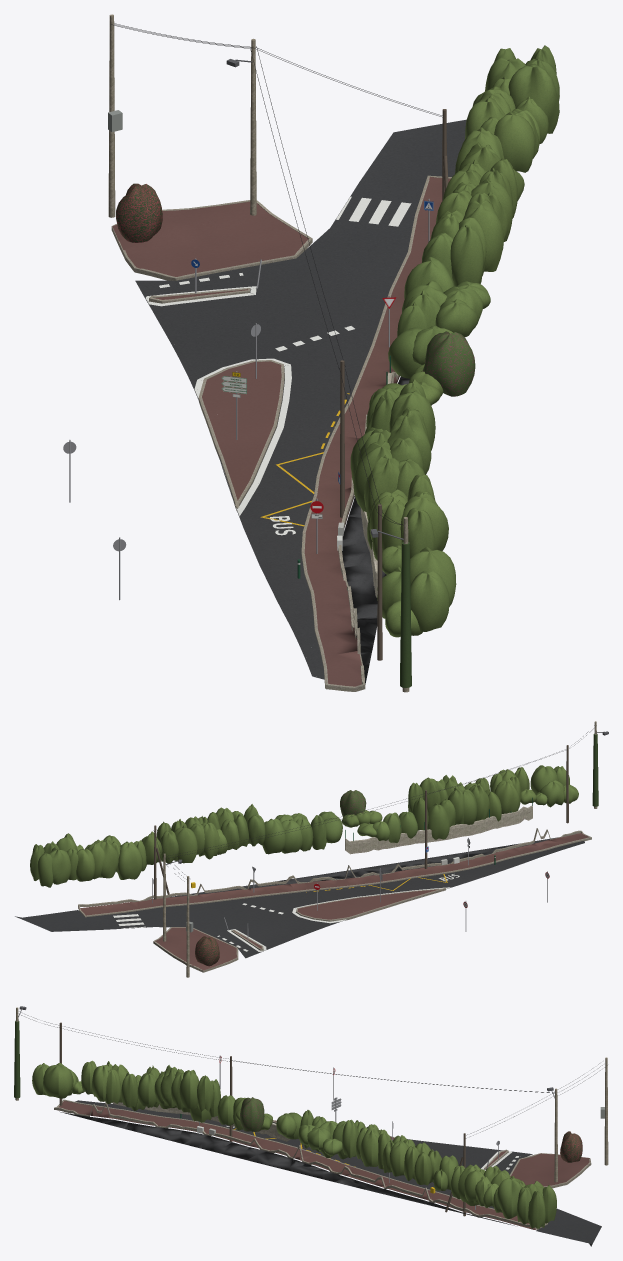
File: depart.glb
3 views of the same model, one above another, from view 1: azimuth 30°, elevation 25°; view 2: azimuth 150°, elevation 25°; view 3: azimuth 270°, elevation 25° (orthographic). The views are drawn at different scales.
Visible parts, largest first — view 1: voie_laterale_enrobe, haie_jardins, trottoir_enrobe_rouge, parvis_abri_enrobe_rouge, ilot_long_enrobe_rouge, trottoir_bordure, bougainvillier_jardin, laurier_rose_abri, beton_lampe_lierre_lierre, ilot_long_liseré, parvis_abri_bordure, ilot_long_bordure (+2 smaller); view 2: haie_jardins, voie_laterale_enrobe, trottoir_enrobe_rouge, trottoir_bordure, muret_blanc_jardin_muret, ilot_long_enrobe_rouge, parvis_abri_enrobe_rouge, ilot_long_bordure, laurier_rose_abri, bougainvillier_jardin, parvis_abri_bordure, beton_lampe_lierre_lierre (+1 smaller); view 3: haie_jardins, voie_laterale_enrobe, trottoir_enrobe_rouge, trottoir_bordure, parvis_abri_enrobe_rouge, bougainvillier_jardin, laurier_rose_abri, muret_blanc_jardin_muret, beton_lampe_lierre_lierre, beton_transfo_fut, beton_lampe_abri_fut.
Boxes of the visible parts, x1,y1,x2,y2 form: voie_laterale_enrobe: (135,119,466,684); haie_jardins: (350,45,559,637); trottoir_enrobe_rouge: (304,177,450,686); parvis_abri_enrobe_rouge: (112,201,308,276); ilot_long_enrobe_rouge: (202,361,281,500); trottoir_bordure: (301,175,451,691); bougainvillier_jardin: (423,331,475,396); laurier_rose_abri: (116,183,162,242); beton_lampe_lierre_lierre: (400,542,411,687); ilot_long_liseré: (194,358,291,516); parvis_abri_bordure: (111,200,312,280); ilot_long_bordure: (198,360,284,510); haie_jardins: (30,765,578,887); voie_laterale_enrobe: (15,837,584,958); trottoir_enrobe_rouge: (78,833,588,915); trottoir_bordure: (78,828,591,917); muret_blanc_jardin_muret: (345,805,532,854); ilot_long_enrobe_rouge: (297,889,437,919); parvis_abri_enrobe_rouge: (155,927,237,970); ilot_long_bordure: (296,888,445,921); laurier_rose_abri: (195,936,219,966); bougainvillier_jardin: (340,790,366,817); parvis_abri_bordure: (153,927,238,972); beton_lampe_lierre_lierre: (592,733,598,806); haie_jardins: (32,1060,556,1228); voie_laterale_enrobe: (59,1100,601,1246); trottoir_enrobe_rouge: (57,1100,545,1229); trottoir_bordure: (54,1099,547,1229); parvis_abri_enrobe_rouge: (510,1153,590,1186); bougainvillier_jardin: (240,1097,264,1131); laurier_rose_abri: (560,1131,582,1162); muret_blanc_jardin_muret: (103,1101,290,1141); beton_lampe_lierre_lierre: (14,1020,20,1098); beton_transfo_fut: (604,1057,608,1165); beton_lampe_abri_fut: (554,1088,557,1182).
Size of the model in its own units: 41.51 by 12.44 by 54.53.
Materials: 36 (36 with a texture image).
